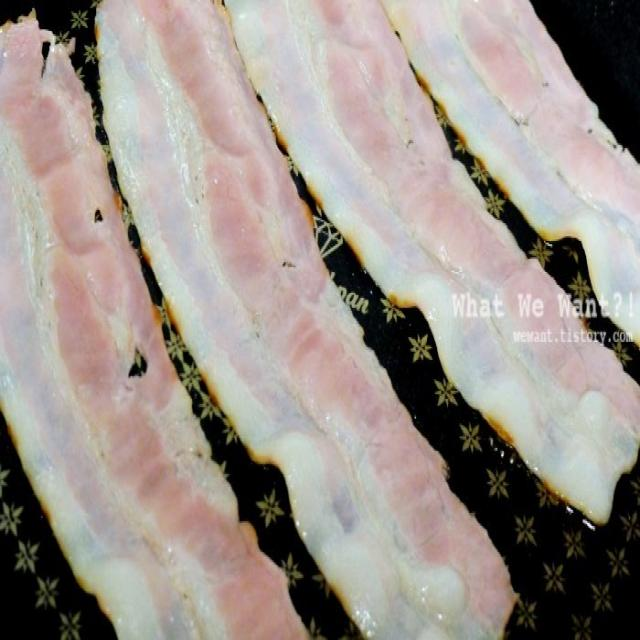Bacon Slice: (95, 2, 640, 638), (0, 15, 305, 638)
